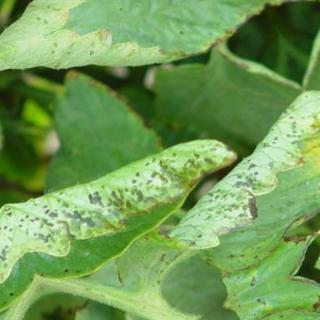Tomato leaf bacterial spot: (9, 116, 264, 292), (130, 82, 320, 292)
